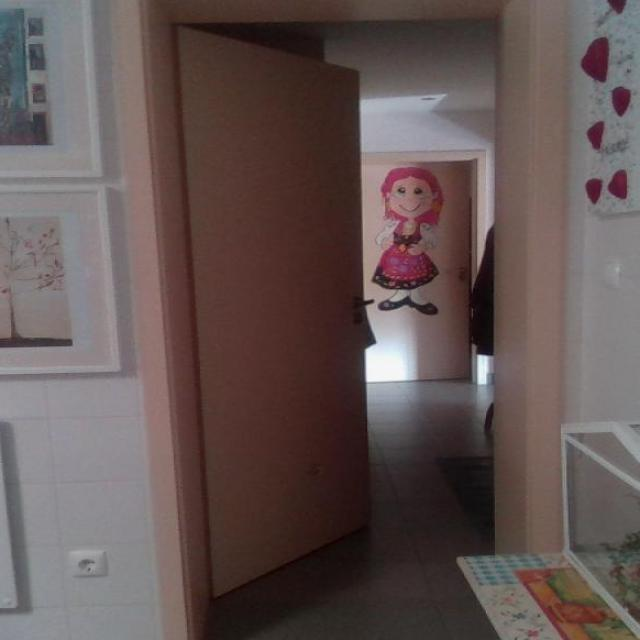door: (173, 24, 373, 598)
